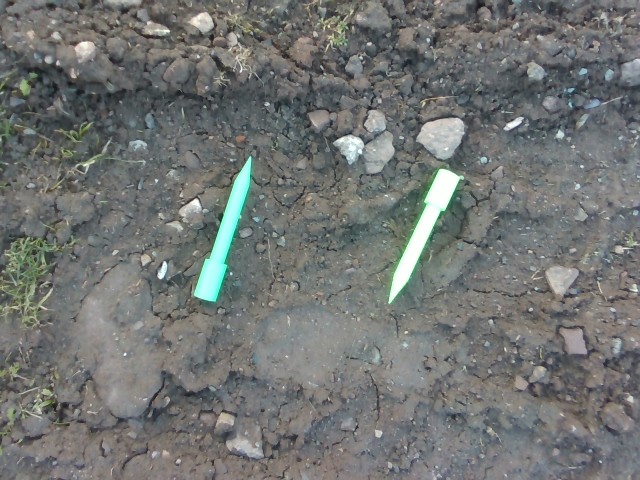Probe: (384, 165, 463, 312), (191, 152, 259, 308)
